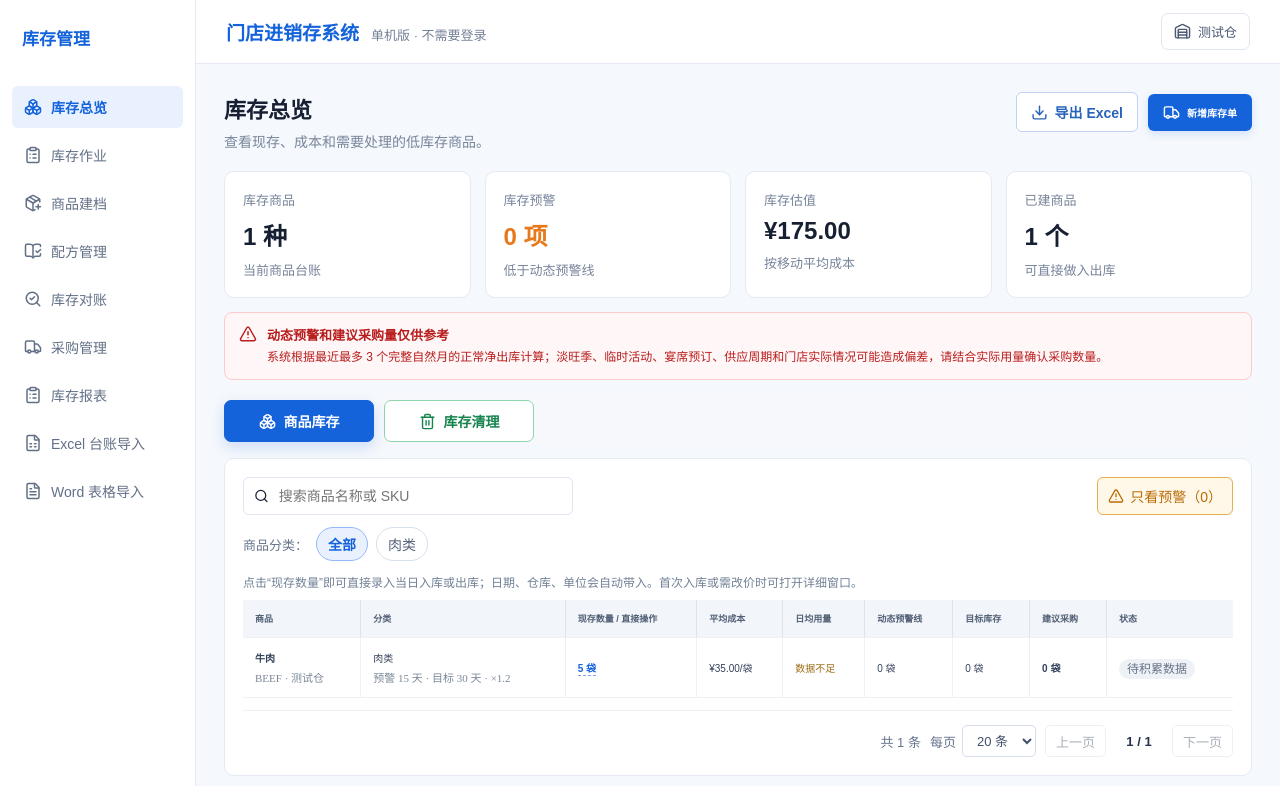
Test: 库存录入草稿保护 › 总览行内出库失败保留操作类型、数量与编辑框，允许修正后重试
Click the button "5 袋" at (587, 668), box [578,660,596,676]
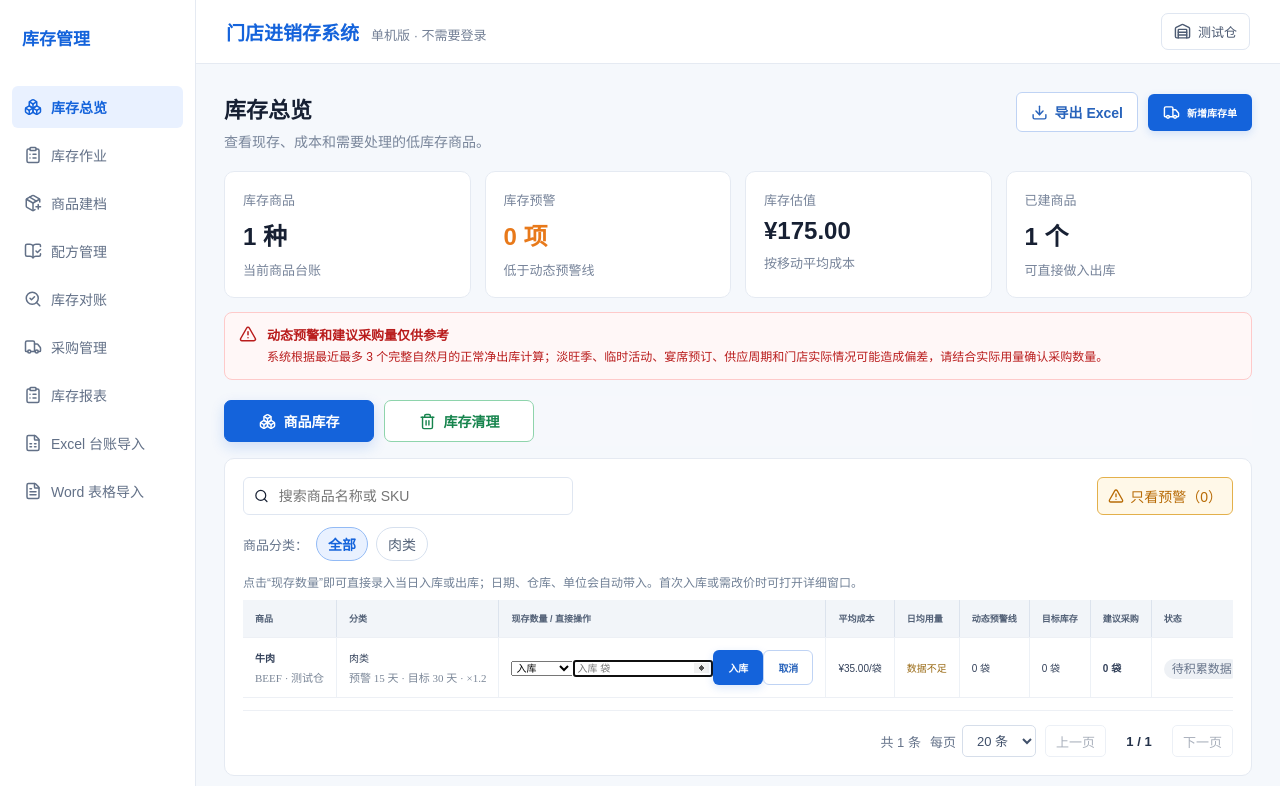
Select "销售出库" in the dropdown named "牛肉 直接操作类型" at (542, 669), box [511,661,573,676]
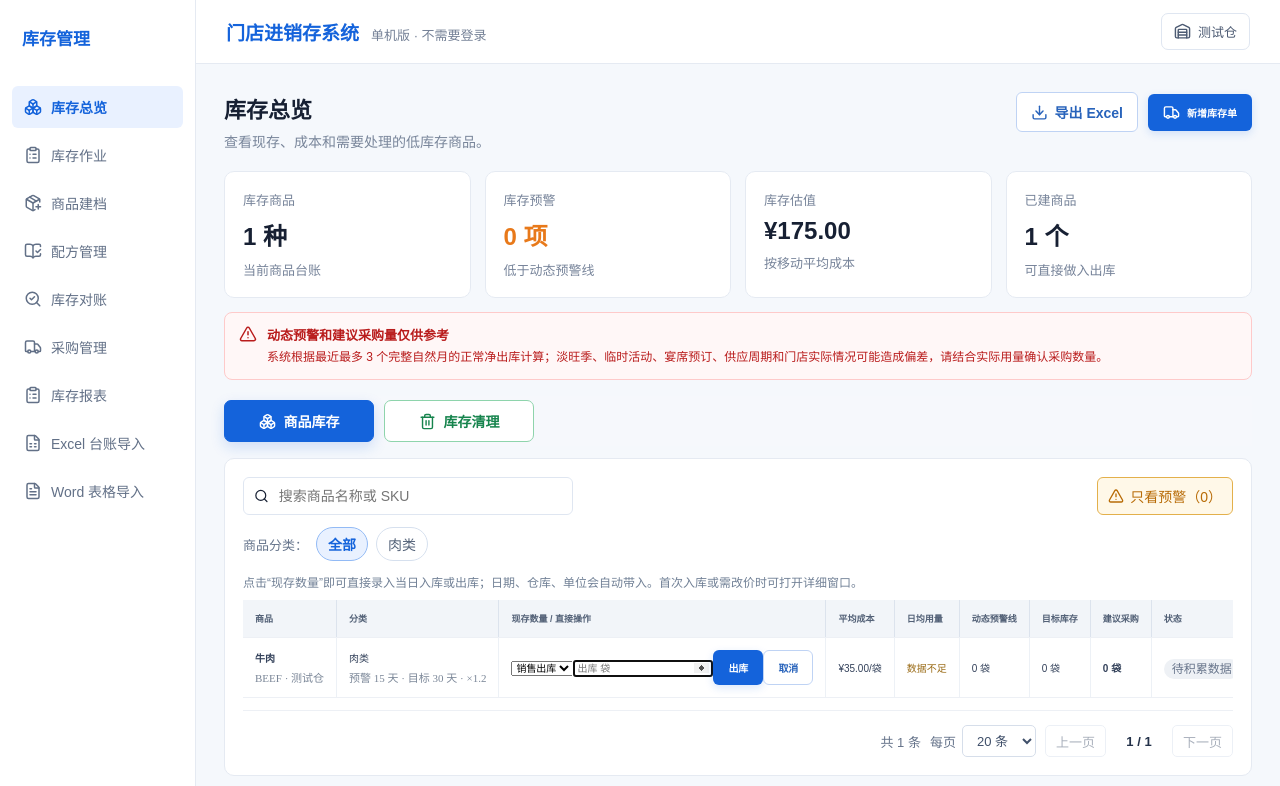
Type "10" into the number field named "牛肉 今日操作数量" at (643, 669), box [573,660,713,677]
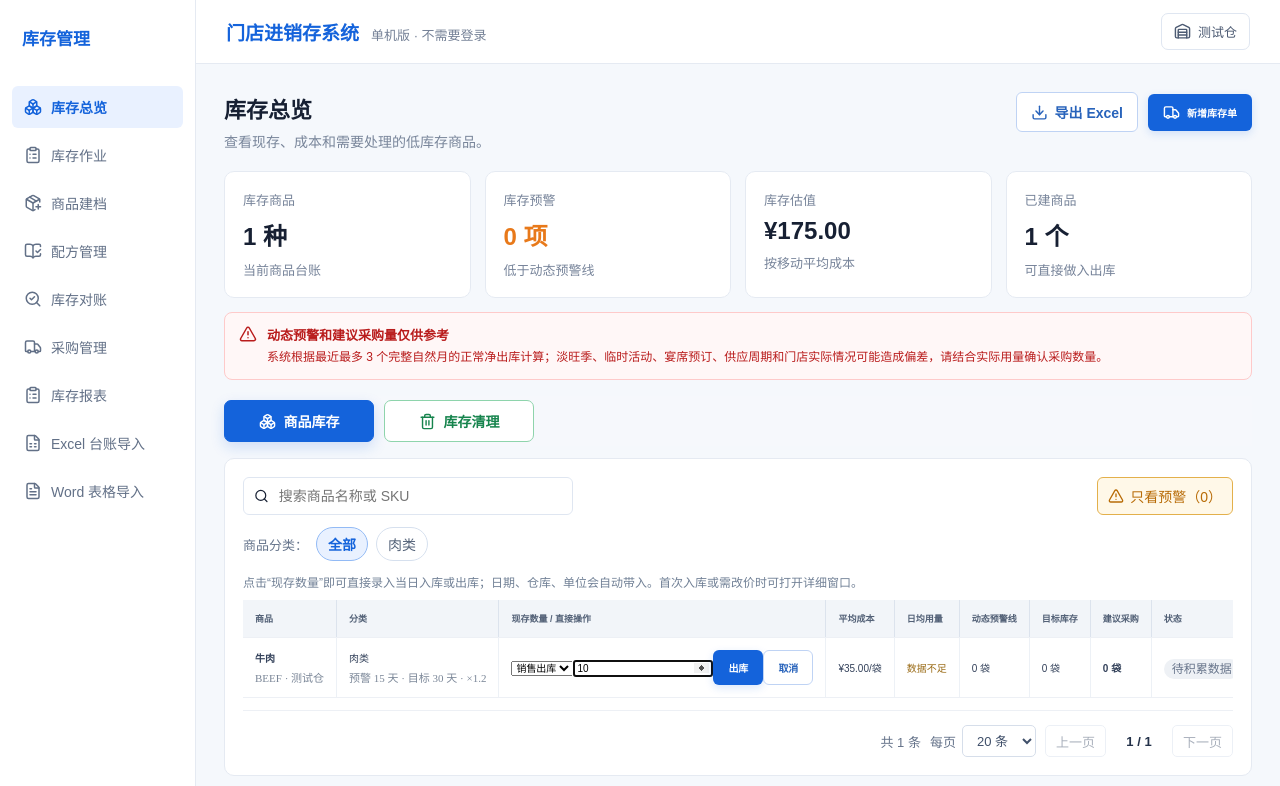
Click the button "出库" at (738, 668), box [713,650,763,685]
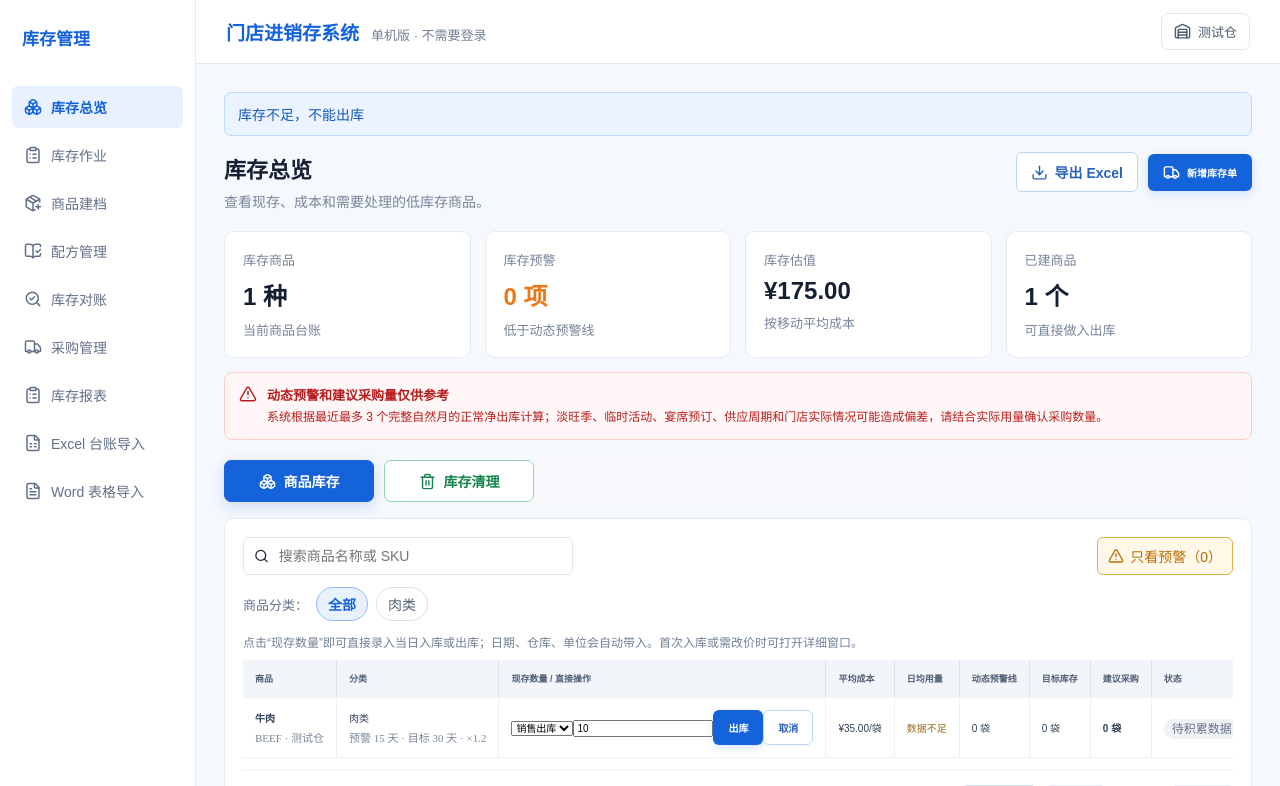
Check: the button "出库" is enabled, box [713,710,763,745]
Check: the text "库存不足，不能出库" is shown, box [224,92,1252,136]
